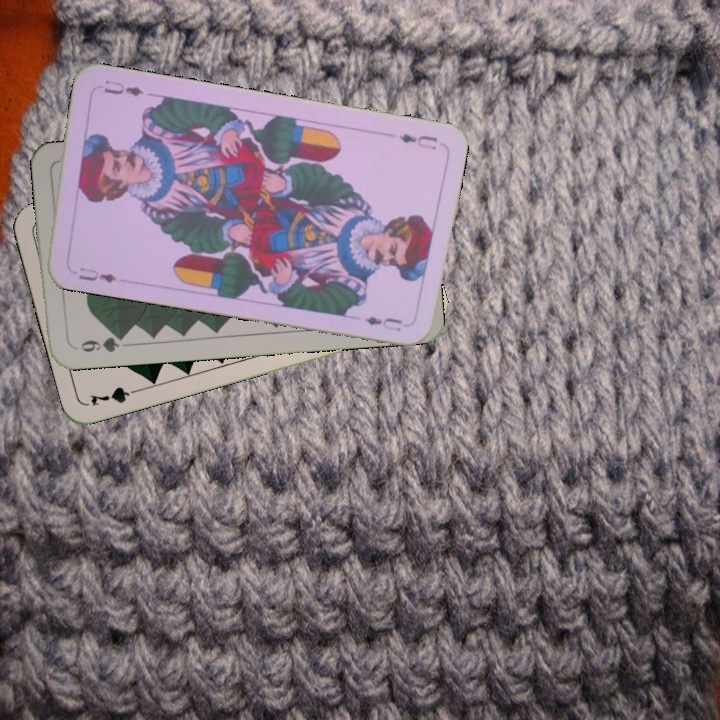EU: (395, 129, 440, 153), (75, 263, 120, 285)
G7: (86, 382, 144, 408)
G9: (69, 330, 128, 355)
